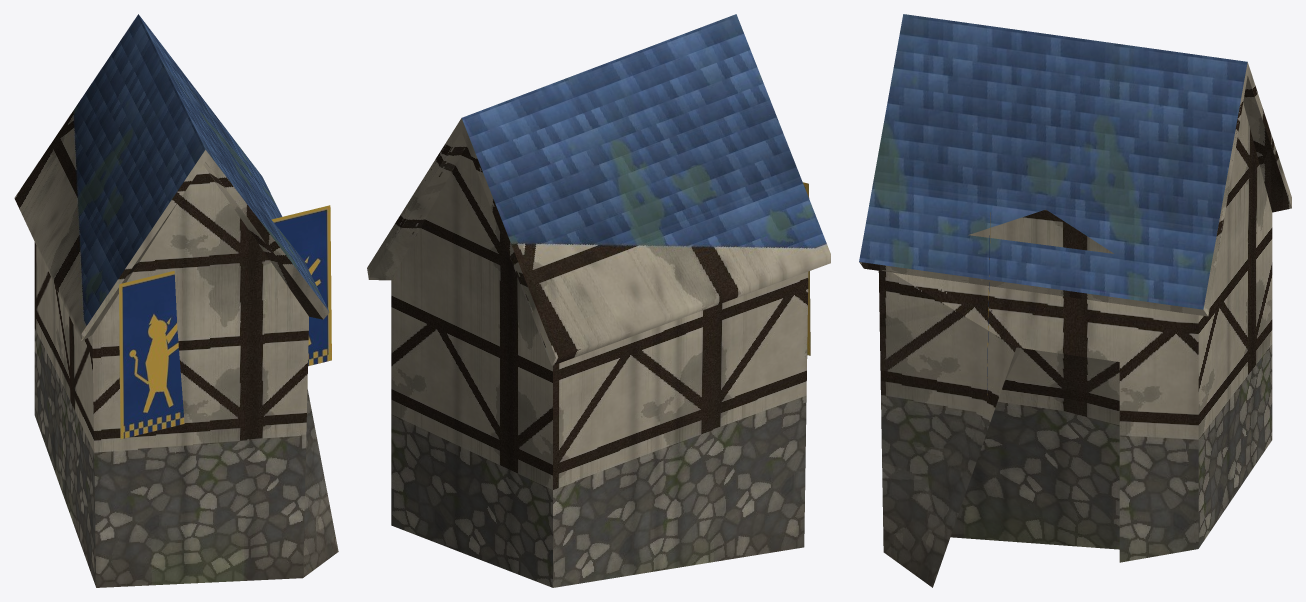
The model's file is house_04_card.glb.
The picture shows the model from 3 angles, left to right: view 1: azimuth 30°, elevation 25°; view 2: azimuth 150°, elevation 25°; view 3: azimuth 270°, elevation 25°; orthographic projection. The views are drawn at different scales.
Parts seen in each view (by area): view 1: house_04_game_card; view 2: house_04_game_card; view 3: house_04_game_card.
Boxes of the visible parts, x1,y1,x2,y2 form: house_04_game_card: (14, 14, 338, 587); house_04_game_card: (367, 14, 830, 587); house_04_game_card: (859, 14, 1291, 587).
Bounding box in the file's own units: 5.64 × 8.13 × 6.45.
1 material, 1 textured.
